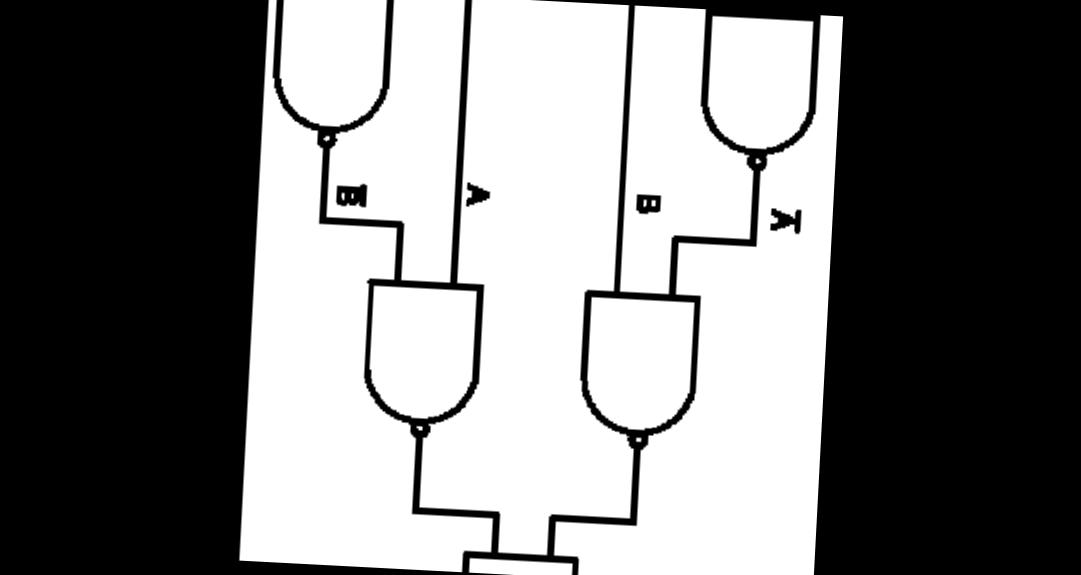nand: (569, 271, 707, 461), (356, 260, 490, 447), (687, 8, 829, 182), (261, 0, 401, 156), (450, 530, 616, 575)
